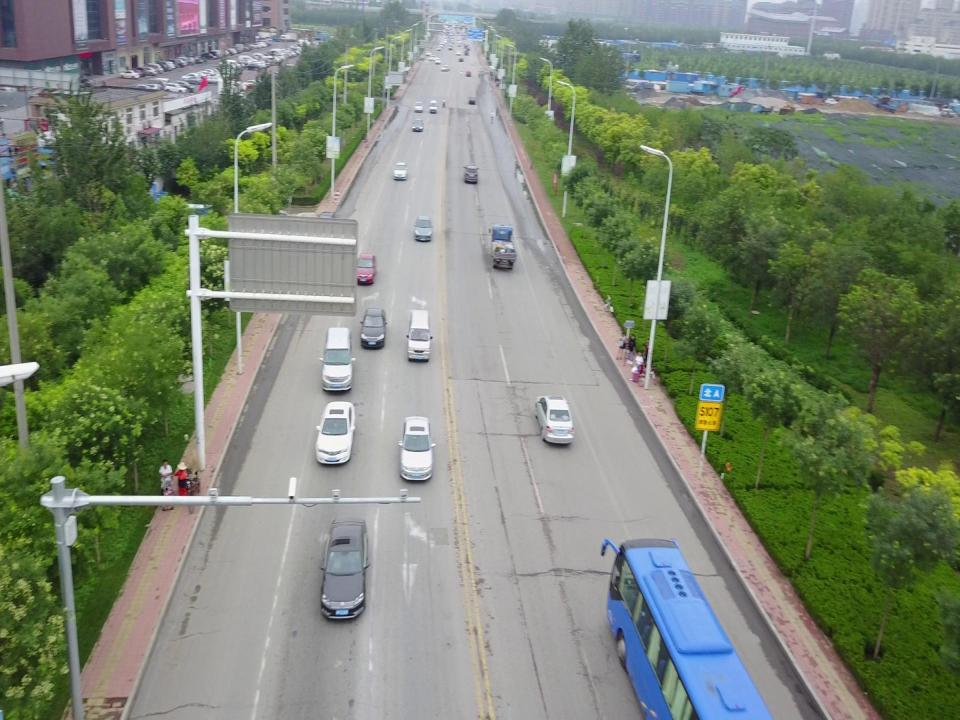bus: (599, 535, 783, 720)
car: (316, 514, 370, 621), (314, 400, 356, 465), (397, 416, 437, 481), (318, 326, 356, 392), (534, 395, 575, 445), (360, 307, 388, 350), (354, 252, 378, 286), (412, 215, 435, 243), (462, 164, 480, 185), (392, 161, 408, 181), (411, 118, 425, 133), (427, 100, 439, 114), (413, 100, 423, 112), (467, 96, 477, 106)
truck: (486, 218, 518, 272)
van: (404, 308, 434, 362)
